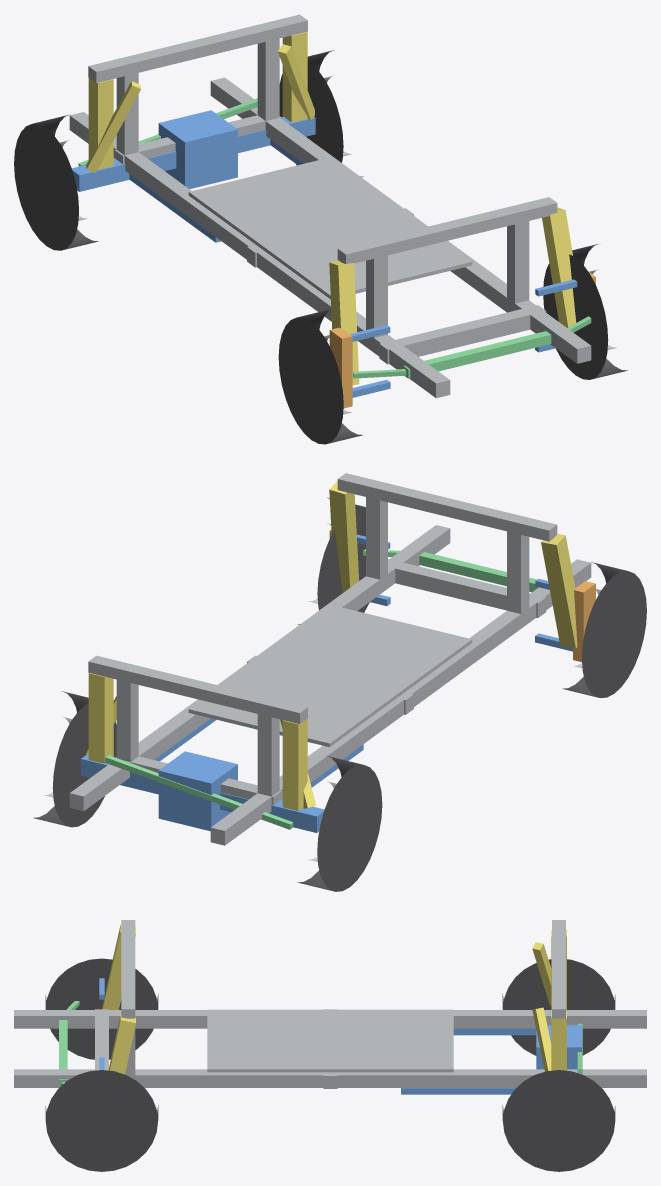
File: suspension-rig.glb
The picture shows the model from 3 angles, top to bottom: view 1: azimuth 30°, elevation 25°; view 2: azimuth 150°, elevation 25°; view 3: azimuth 270°, elevation 25°; orthographic projection. The views are drawn at different scales.
Visible parts, largest first — view 1: frame, susp_axle_rear, wheel_FR, wheel_RR, wheel_FL, wheel_RL, susp_spring_FL, susp_spring_FR, steer_rack, susp_spring_RR, susp_spring_RL, susp_upright_FR (+2 smaller); view 2: frame, wheel_RR, wheel_FR, susp_axle_rear, wheel_RL, susp_spring_FR, susp_spring_FL, susp_spring_RL, susp_spring_RR, wheel_FL, susp_panhard_rear, steer_rack (+1 smaller); view 3: frame, wheel_FL, wheel_RL, wheel_FR, wheel_RR, susp_spring_FL, susp_spring_FR, susp_spring_RL, susp_axle_rear, susp_trailingarm_RL, susp_damper_RL, susp_trailingarm_RR (+2 smaller).
Part boxes in pixels (x1,y1,x2,y2): frame: (69, 14, 591, 398); susp_axle_rear: (72, 110, 315, 191); wheel_FR: (278, 309, 363, 444); wheel_RR: (14, 114, 98, 250); wheel_FL: (543, 244, 627, 379); wheel_RL: (279, 50, 363, 177); susp_spring_FL: (542, 207, 576, 327); susp_spring_FR: (329, 260, 359, 385); steer_rack: (403, 331, 551, 378); susp_spring_RR: (88, 78, 113, 169); susp_spring_RL: (282, 32, 307, 122); susp_upright_FR: (329, 327, 352, 408); frame: (69, 473, 591, 845); wheel_RR: (297, 755, 382, 891); wheel_FR: (562, 562, 646, 698); susp_axle_rear: (80, 751, 324, 832); wheel_RL: (33, 691, 116, 827); susp_spring_FR: (541, 533, 577, 648); susp_spring_FL: (329, 481, 359, 592); susp_spring_RL: (88, 673, 113, 763); susp_spring_RR: (282, 719, 307, 810); wheel_FL: (298, 497, 369, 624); susp_panhard_rear: (105, 755, 293, 829); steer_rack: (419, 552, 538, 592); frame: (14, 920, 646, 1088); wheel_FL: (45, 1070, 158, 1171); wheel_RL: (502, 1070, 615, 1171); wheel_FR: (45, 958, 158, 1059); wheel_RR: (502, 959, 615, 1055); susp_spring_FL: (108, 1014, 135, 1074); susp_spring_FR: (102, 924, 135, 1009); susp_spring_RL: (551, 1011, 566, 1070); susp_axle_rear: (536, 1025, 581, 1069); susp_trailingarm_RL: (401, 1088, 515, 1094); susp_damper_RL: (532, 1007, 551, 1071); susp_trailingarm_RR: (453, 1028, 536, 1035).
Size of the model in its own units: 1.72 by 0.9 by 3.6.
